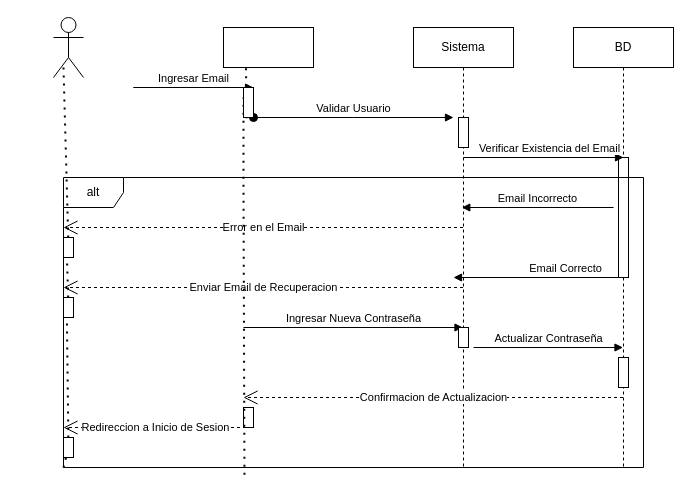
The diagram is 691 pixels wide and 494 high, and some of its shapes have lost their labels. Here are the shapes that lost their labels. From the top down, the box of each, then its label:
(52, 16, 84, 78): Usuario Registrado
(222, 26, 314, 68): Usuario
